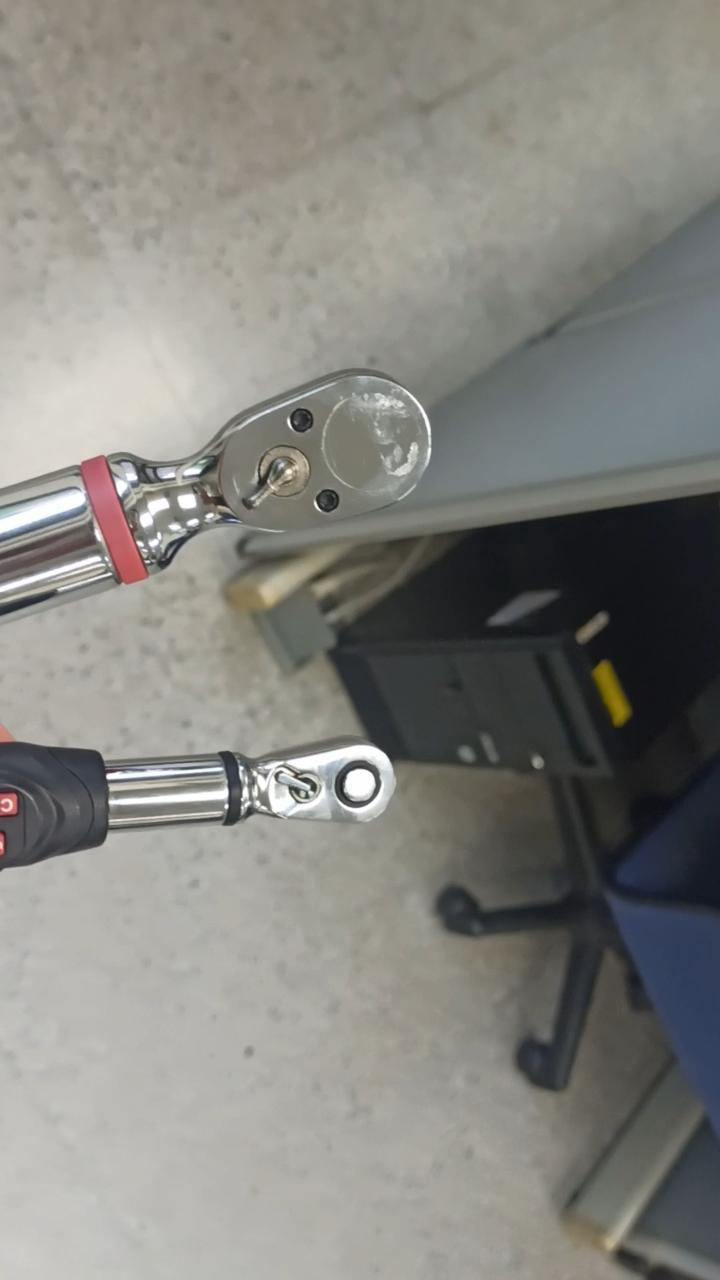Tool: (107, 367, 447, 577), (224, 737, 398, 833)
